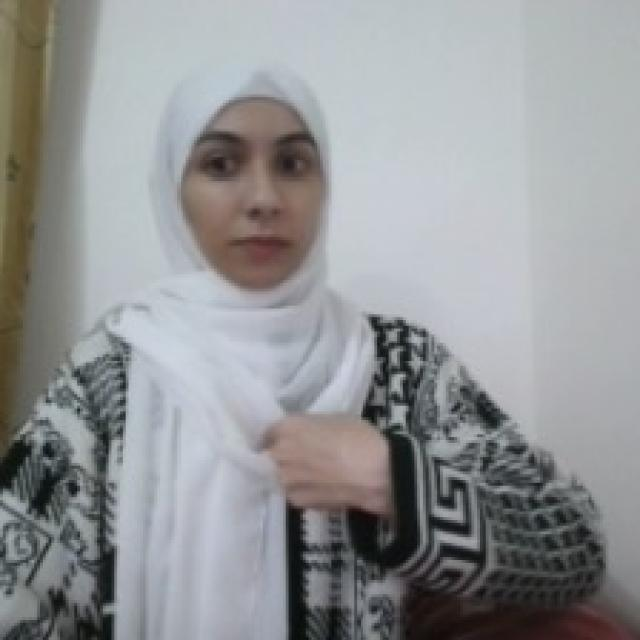me: (257, 407, 396, 521)
